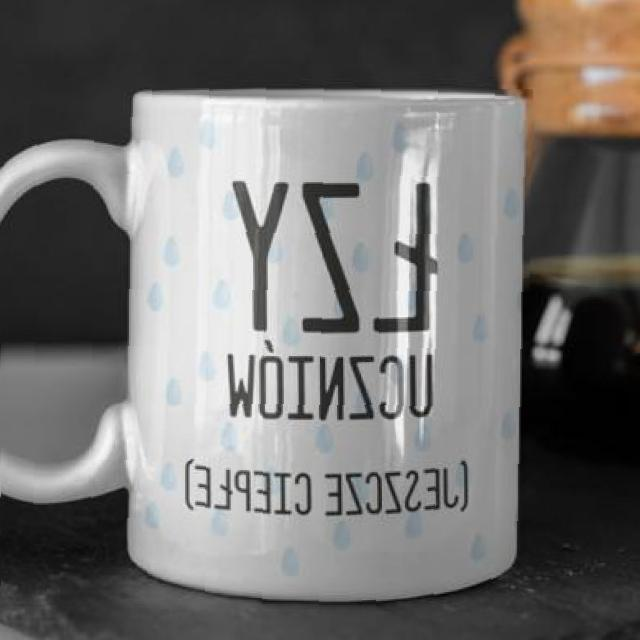cup: (0, 81, 533, 613)
